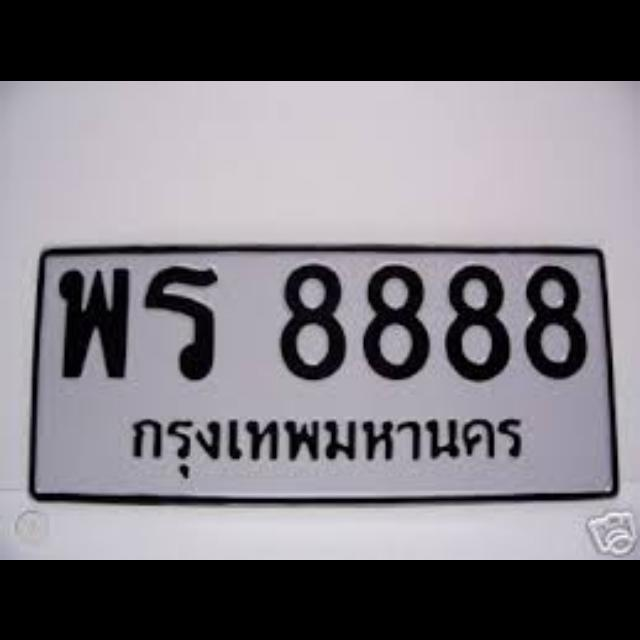licenseplate: (29, 244, 623, 506)
